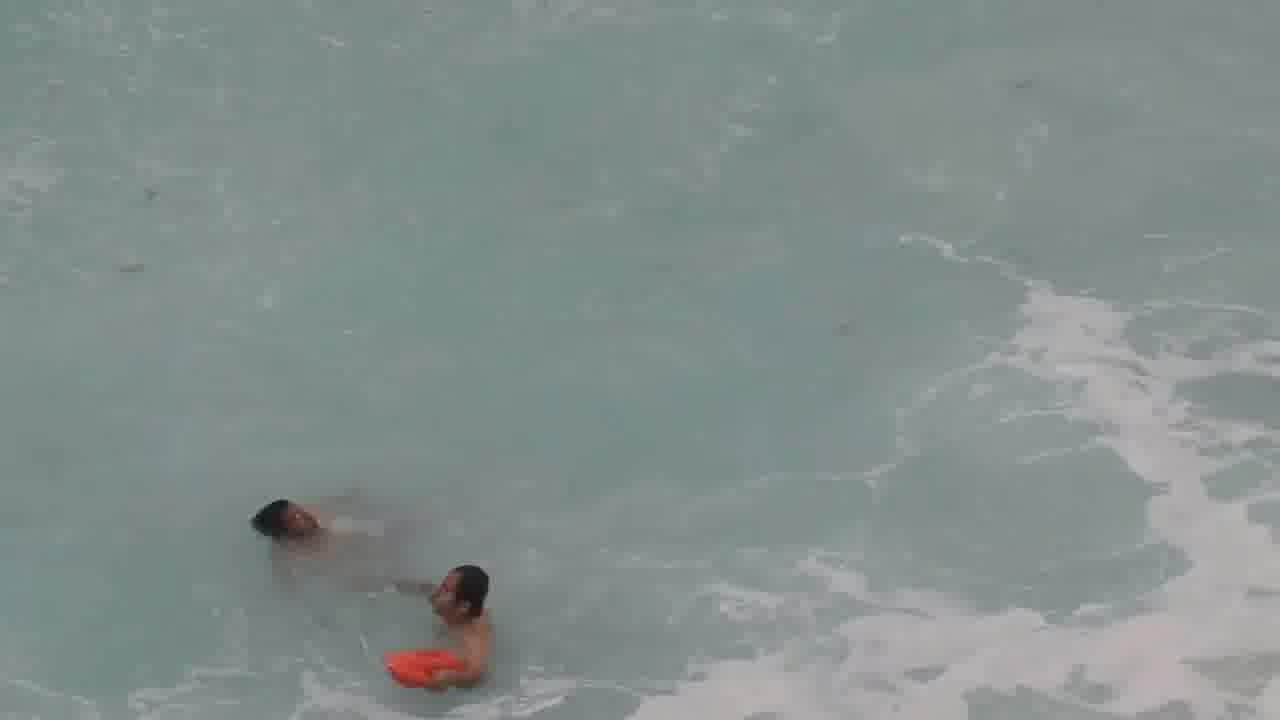swimmer: (376, 551, 508, 699), (238, 475, 390, 602)
